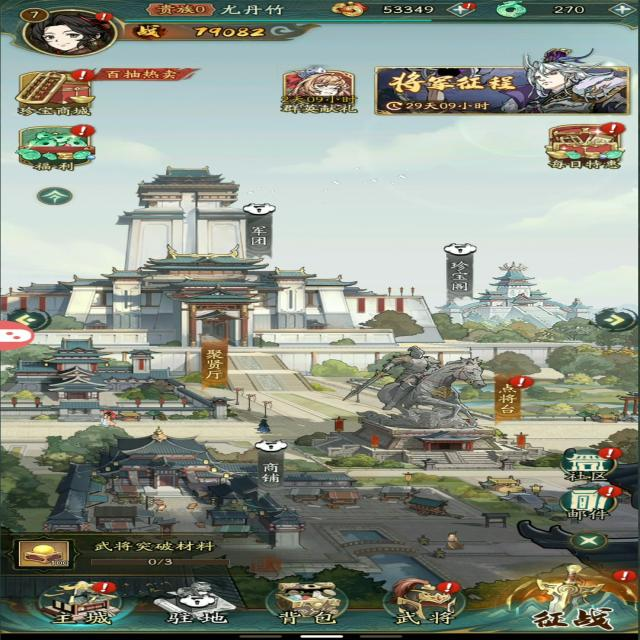hint-reddot: (67, 68, 104, 84), (431, 581, 465, 597), (593, 483, 627, 499), (608, 567, 640, 583), (88, 581, 120, 597), (68, 124, 99, 140), (508, 372, 533, 390), (601, 120, 628, 135), (90, 10, 112, 24), (459, 2, 485, 12)
navigation-DailyDiscount: (534, 120, 627, 174)
navigation-bag: (257, 576, 355, 626)
navigation-community: (551, 444, 625, 481)
navigation-dianjiangtai: (312, 341, 544, 460)
navigation-fight: (491, 561, 640, 631)
navigation-hero: (375, 573, 479, 628)
navigation-juntuan-off: (109, 159, 309, 307)
navigation-juxianting: (3, 316, 266, 414)
navigation-mail: (551, 485, 625, 522)
navigation-main: (18, 576, 139, 629)
navigation-role: (19, 2, 127, 59)
navigation-shop-off: (16, 419, 302, 521)
navigation-station-off: (143, 576, 243, 628)
navigation-treasureMall: (11, 68, 97, 119)
navigation-welfare: (12, 126, 98, 174)
navigation-zhenbaoge-off: (435, 241, 615, 339)
operation-TaskCollection: (16, 532, 237, 571)
operation-Vip: (137, 3, 236, 22)
operation-close: (29, 187, 96, 216), (566, 531, 610, 552)
operation-jiangjunzhengcheng: (368, 64, 640, 122)
operation-qunyingxianli: (279, 66, 356, 120)
